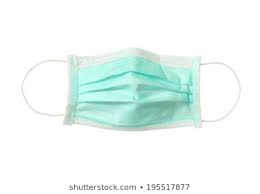flumask: (61, 48, 202, 133)
